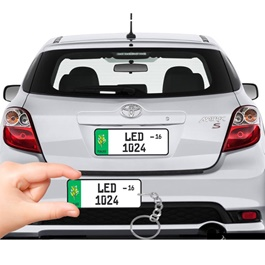plate: (64, 177, 144, 210), (92, 127, 171, 156)
